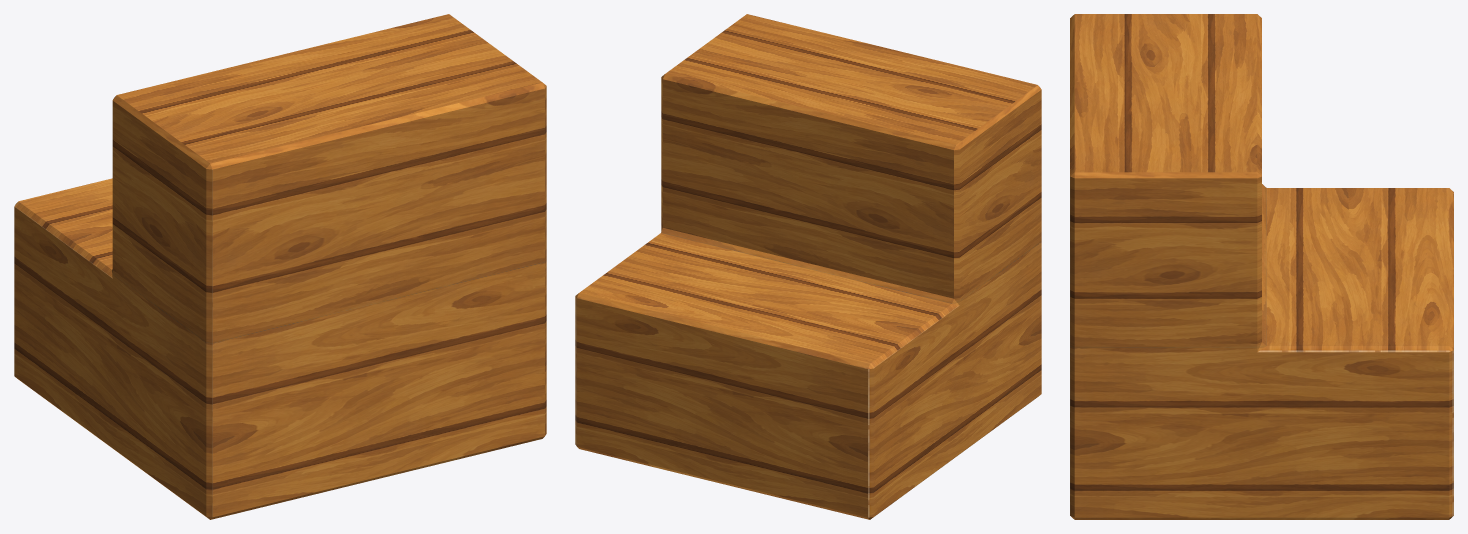
Rendered from oak-stairs.glb.
3 renders of one model, left to right at view 1: azimuth 30°, elevation 25°; view 2: azimuth 150°, elevation 25°; view 3: azimuth 270°, elevation 25°, orthographic. The views are drawn at different scales.
Visible parts, largest first — view 1: OakStairsMesh; view 2: OakStairsMesh; view 3: OakStairsMesh.
Part boxes in pixels (x1,y1,x2,y2): OakStairsMesh: [14, 14, 546, 519]; OakStairsMesh: [575, 14, 1041, 519]; OakStairsMesh: [1070, 14, 1453, 519].
Size of the model in its own units: 1 by 1 by 1.
Materials: 1 (1 with a texture image).
